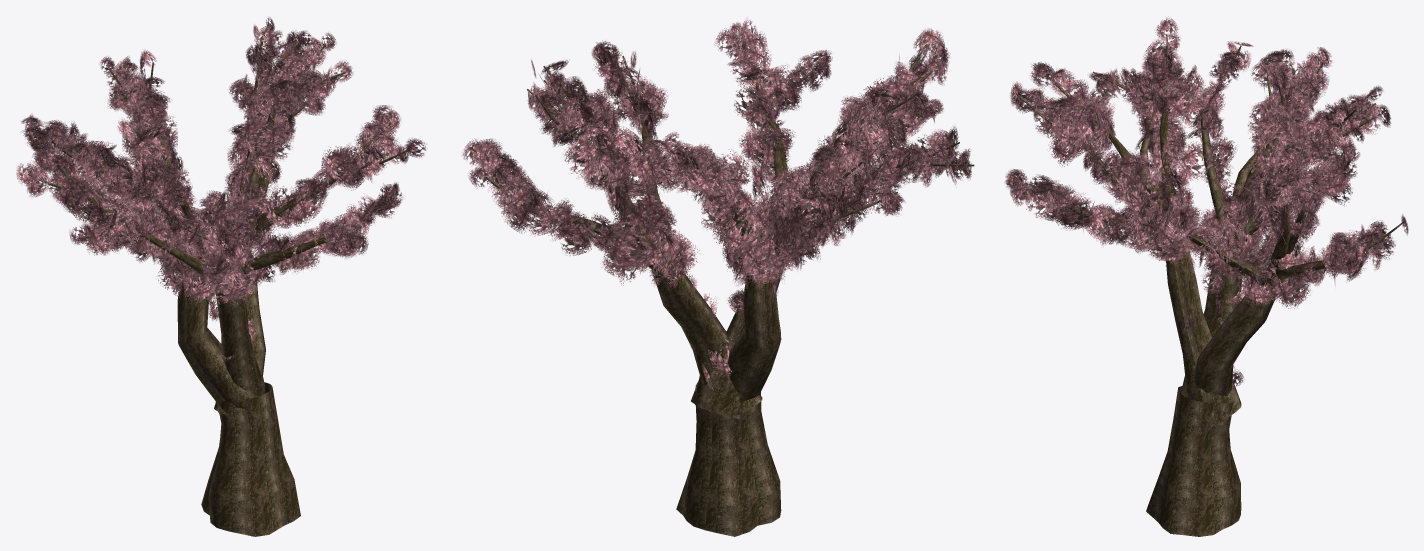
The model's file is blossom_2x_1.glb.
3 renders of one model, left to right at view 1: azimuth 30°, elevation 25°; view 2: azimuth 150°, elevation 25°; view 3: azimuth 270°, elevation 25°, orthographic. The views are drawn at different scales.
Parts seen in each view (by area): view 1: blossom; view 2: blossom; view 3: blossom.
Boxes of the visible parts, <box> form: blossom: <box>16,17,427,536</box>; blossom: <box>461,17,974,536</box>; blossom: <box>1004,16,1408,536</box>.
Size of the model in its own units: 30.22 by 33.18 by 28.8.
2 materials, 2 textured.
